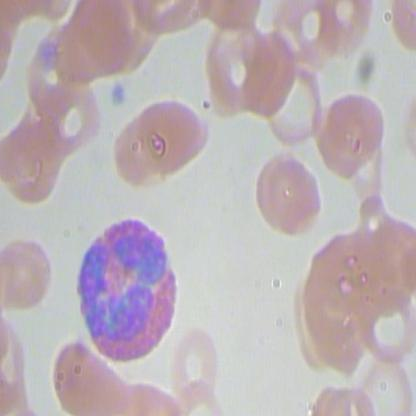Platelets: (105, 79, 129, 109)
RBC: (196, 18, 279, 117), (46, 337, 133, 413), (108, 113, 181, 202), (135, 92, 207, 181), (317, 92, 389, 181), (354, 273, 415, 371), (258, 52, 321, 146), (39, 75, 104, 166), (169, 321, 231, 415), (353, 210, 415, 303), (1, 120, 64, 210), (263, 148, 324, 237), (304, 229, 365, 318), (70, 1, 136, 75), (1, 231, 57, 312), (274, 1, 337, 69), (312, 1, 375, 69), (254, 146, 294, 234)
WBC: (70, 210, 187, 367)
